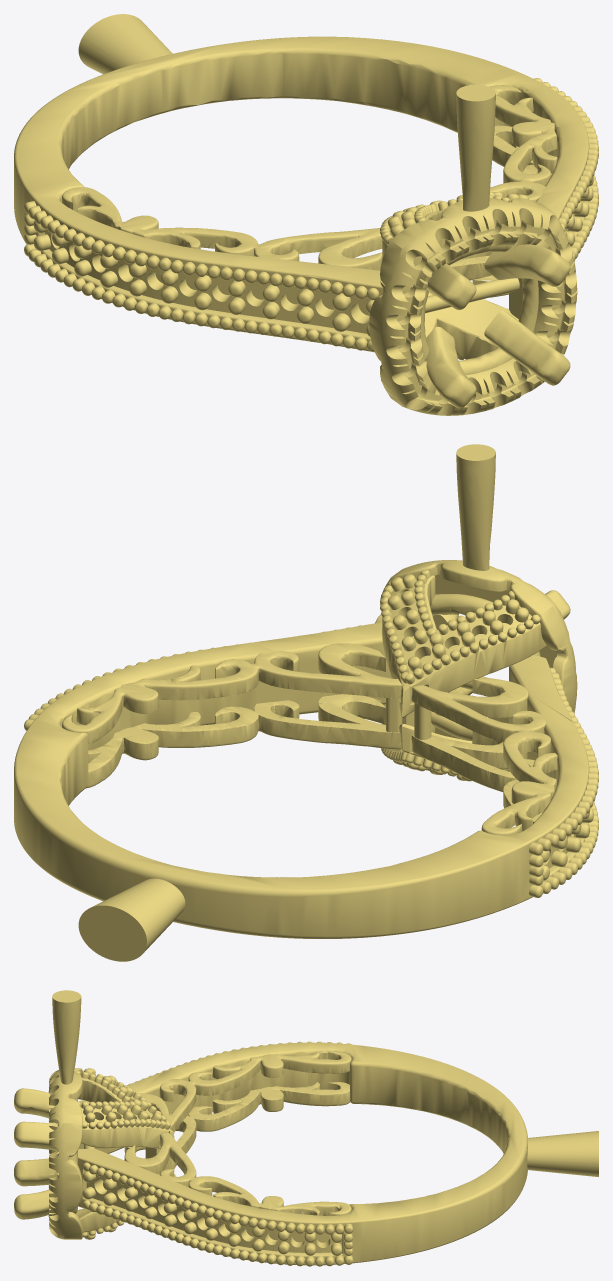
The picture shows the model from 3 angles, top to bottom: view 1: azimuth 30°, elevation 25°; view 2: azimuth 150°, elevation 25°; view 3: azimuth 270°, elevation 25°; orthographic projection. The views are drawn at different scales.
Visible parts, largest first — view 1: Renderer Node; view 2: Renderer Node; view 3: Renderer Node.
Part boxes in pixels (x1,y1,x2,y2): Renderer Node: (14, 14, 598, 415); Renderer Node: (14, 444, 598, 961); Renderer Node: (14, 990, 598, 1266).
Bounding box in the file's own units: 23.6 × 13.64 × 31.2.
